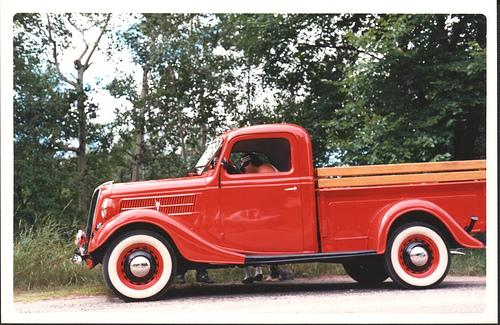truck: (73, 121, 483, 303)
